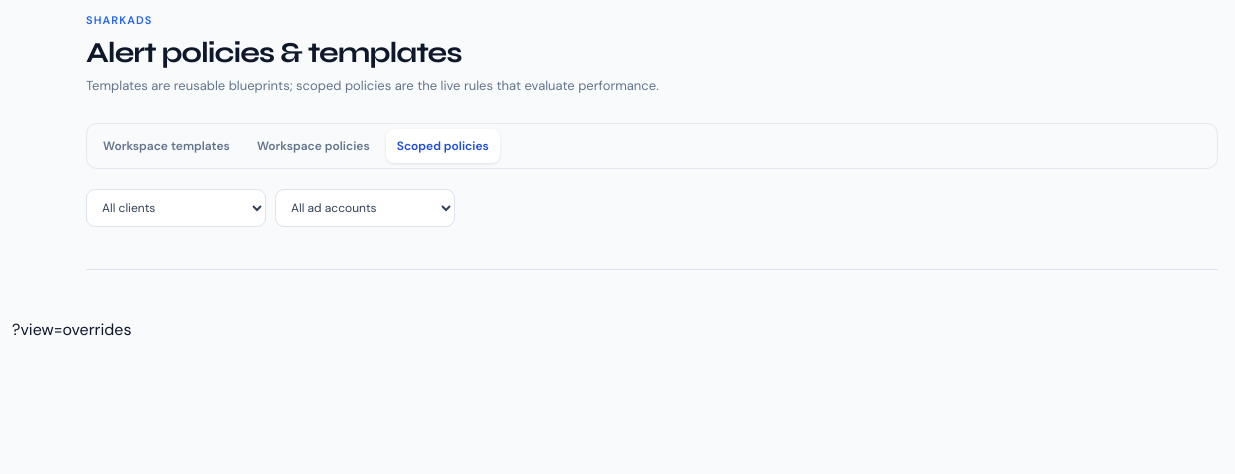
Scenario: keeps the client selection while choosing an account for a scoped policy
The image size is (1235, 474).
Select "Acme" in the dropdown named "Filter by client": (176, 208) top-left (86, 189), bottom-right (266, 227)
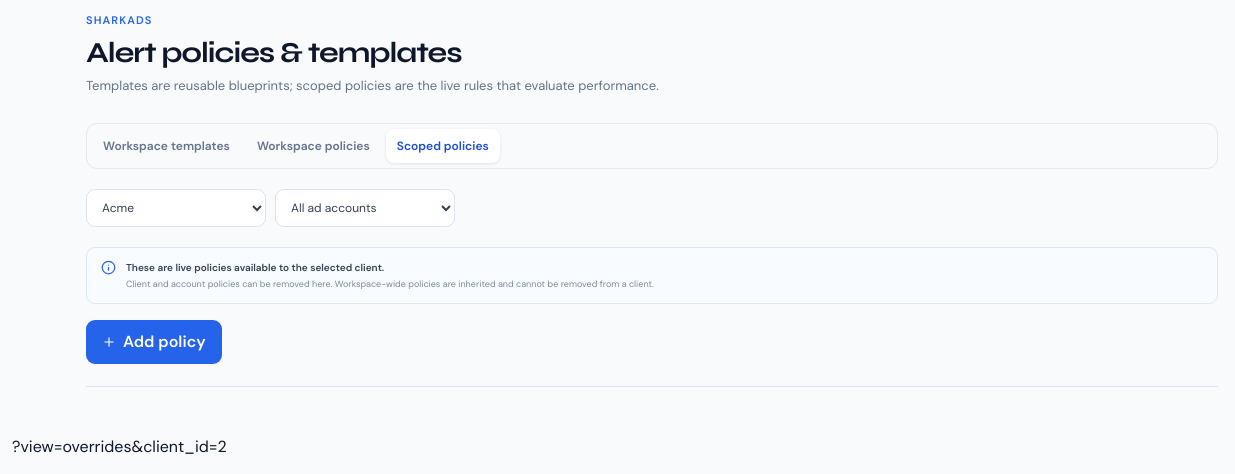
Select "Acme Meta" in the dropdown named "Filter by ad account": (365, 208) top-left (275, 189), bottom-right (455, 227)
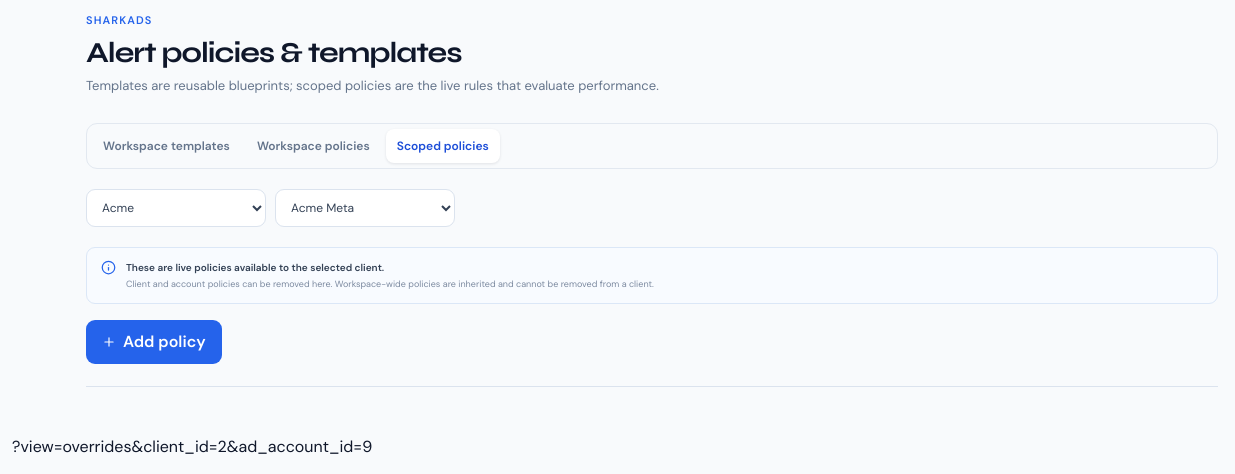
Check: the text named "Current query" shows "client_id=2", box top-left (12, 436), bottom-right (372, 457)
Check: the text named "Current query" shows "ad_account_id=9", box top-left (12, 436), bottom-right (372, 457)
